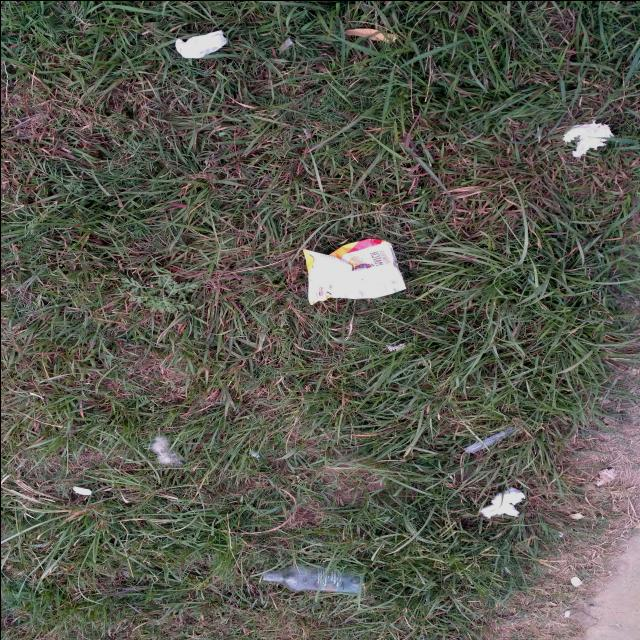Cigarette: (563, 609, 570, 616)
Crisp packet: (301, 237, 405, 304)
Glass bottle: (262, 564, 359, 592)
Plastic film: (174, 30, 227, 58), (462, 426, 513, 453), (275, 34, 294, 53)
Unlabeled litter: (563, 123, 614, 155), (478, 487, 525, 518), (72, 486, 90, 494)
